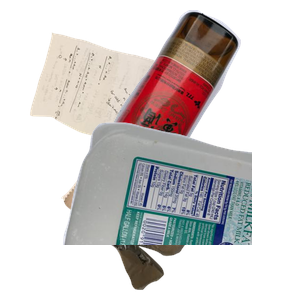glass: (85, 10, 300, 190)
paper: (27, 30, 203, 178)
plastic: (60, 120, 300, 300)
trash: (59, 124, 273, 300)
